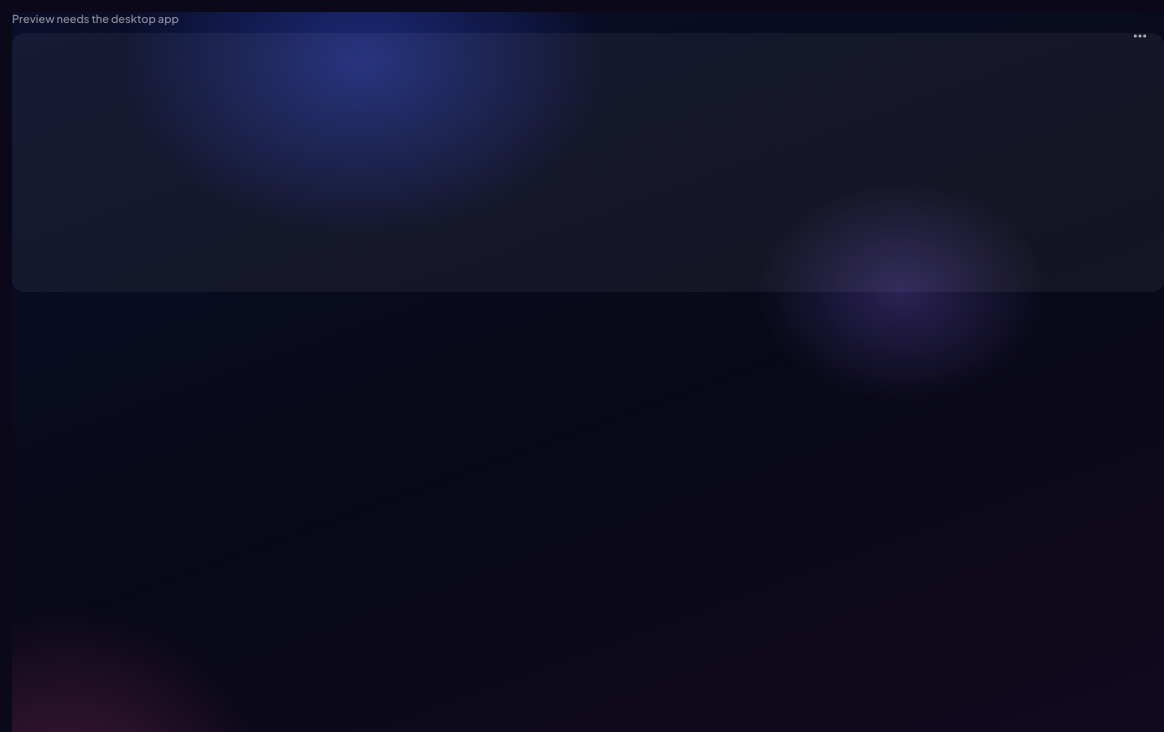
Test: WebViewWidget › rejects bad addresses without leaving home
Right-click the element with test id "day-webview": (588, 152) [12,12,1163,292]
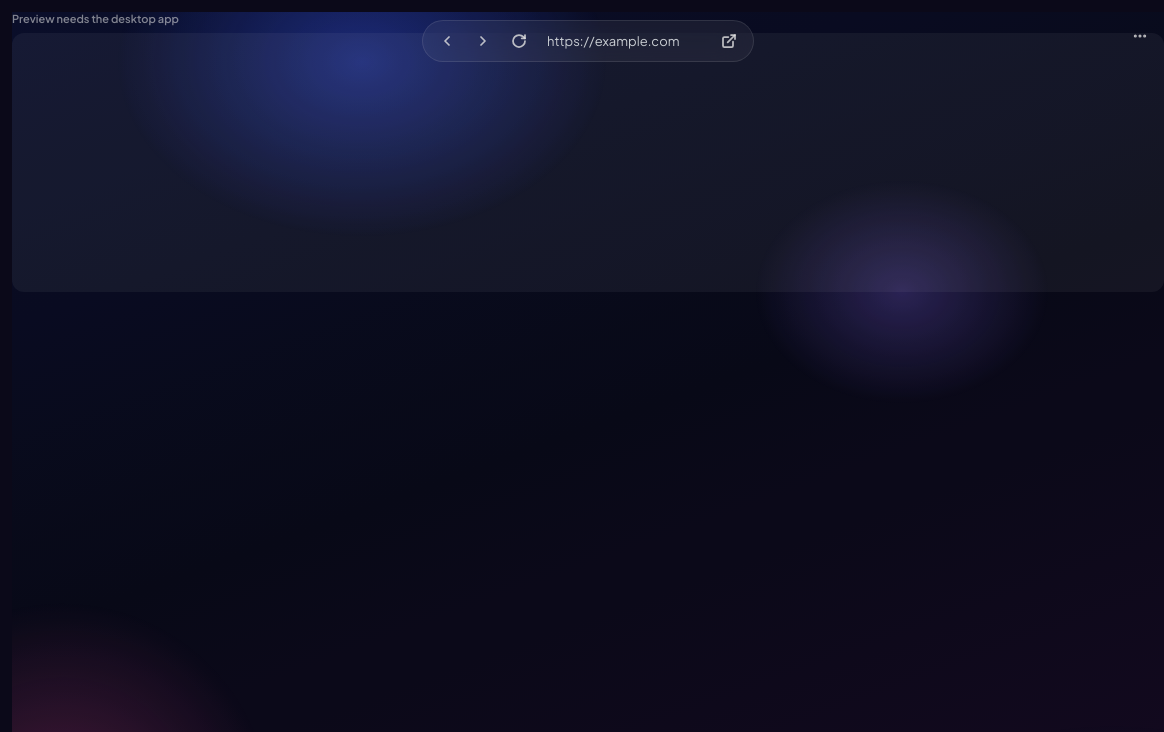
Replace the text in the field named "Web address" with "javascript:alert(1)": (624, 41) [539,29,709,53]
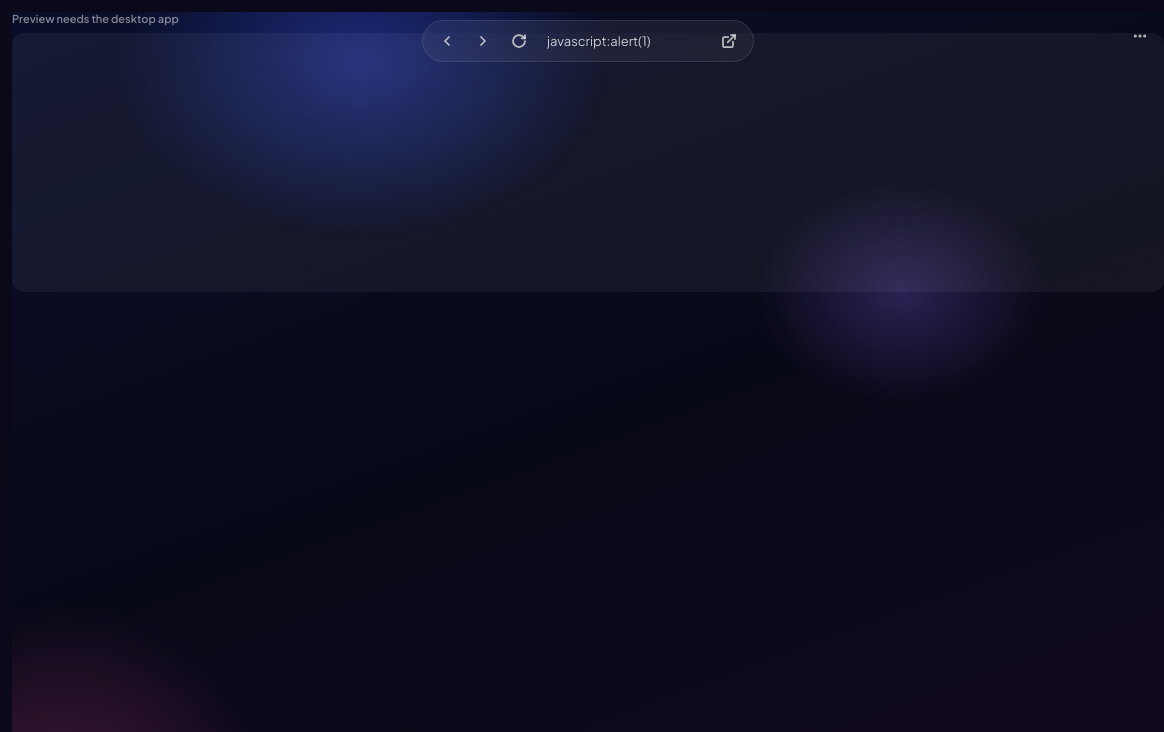
Submit the form with class "moki-day-webview-address", box [539,29,709,53]
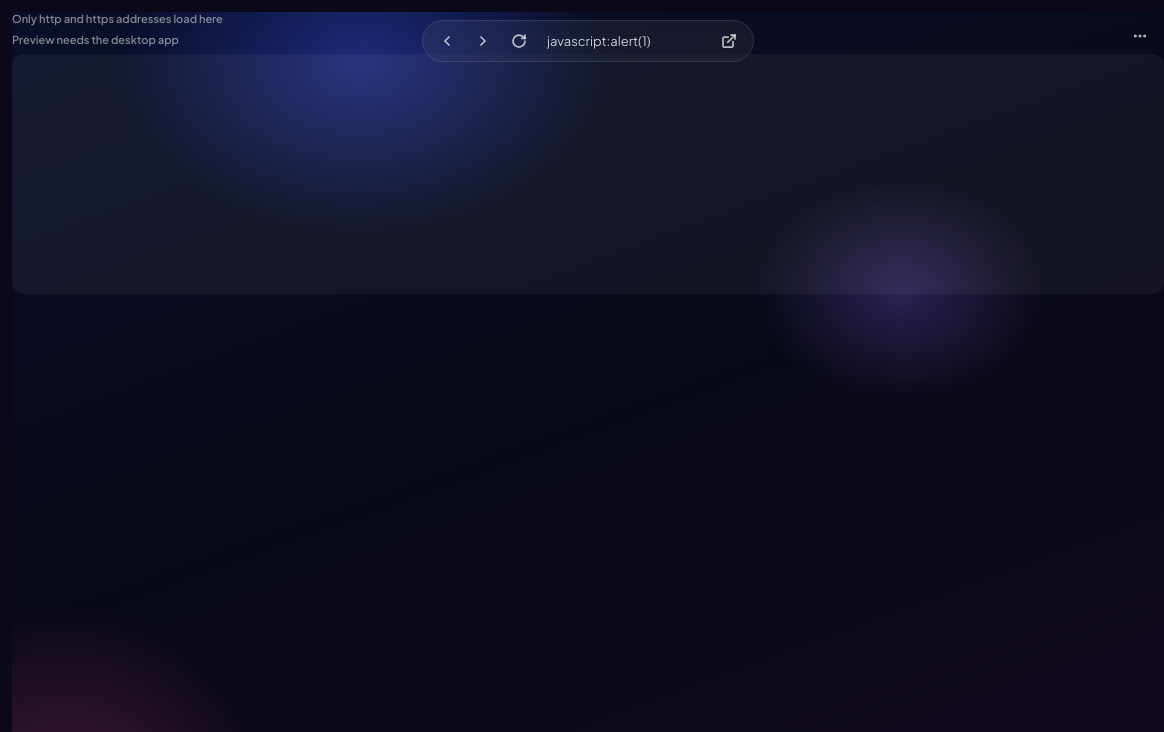
Check: the message "Only http and https addresses load here" is shown, box [12,12,223,25]
